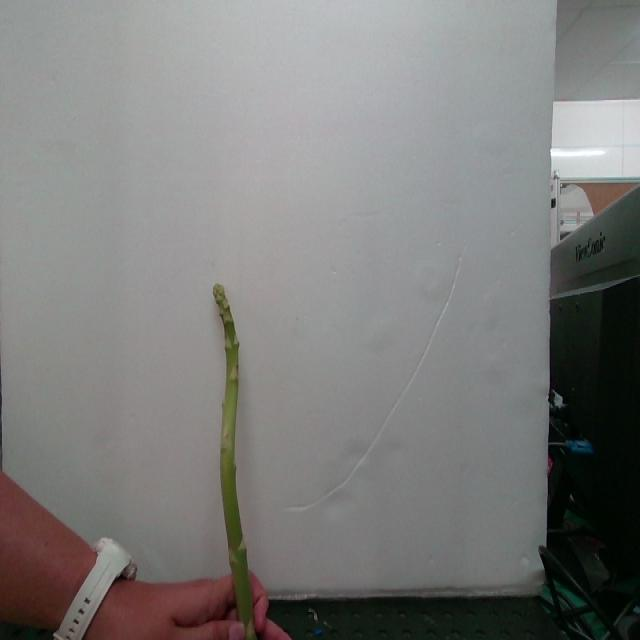aspargus: (213, 286, 259, 640)
